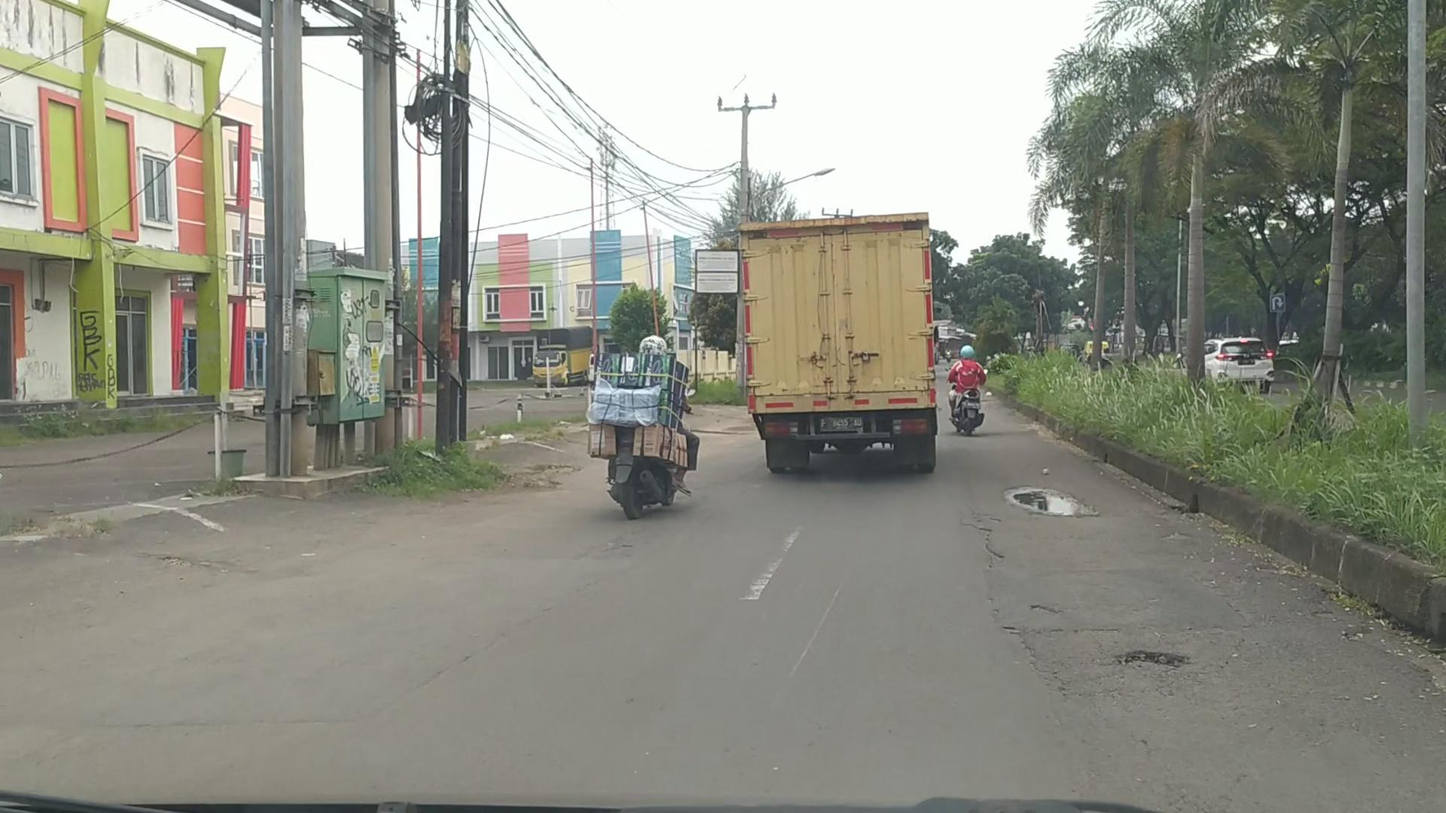pothole: (1010, 487, 1097, 519), (1122, 648, 1186, 668)
